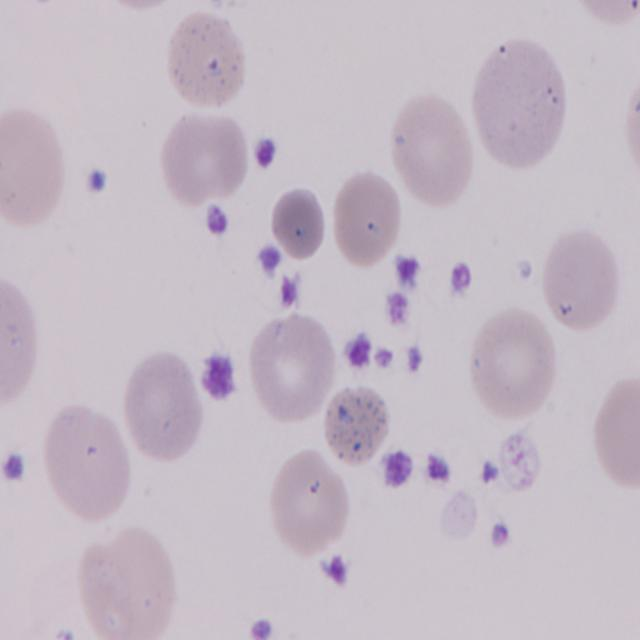Platelets: (3, 445, 33, 499)
RBC: (470, 35, 574, 186), (72, 519, 179, 637), (468, 304, 560, 423), (43, 401, 133, 521), (248, 306, 336, 428), (389, 89, 477, 210), (121, 346, 206, 464), (157, 108, 254, 208), (265, 448, 349, 558), (537, 225, 620, 336), (0, 106, 71, 230), (166, 9, 251, 112), (328, 167, 404, 270), (324, 382, 392, 472), (2, 268, 42, 413), (592, 372, 640, 490)
Spherocyte: (270, 186, 326, 262)
